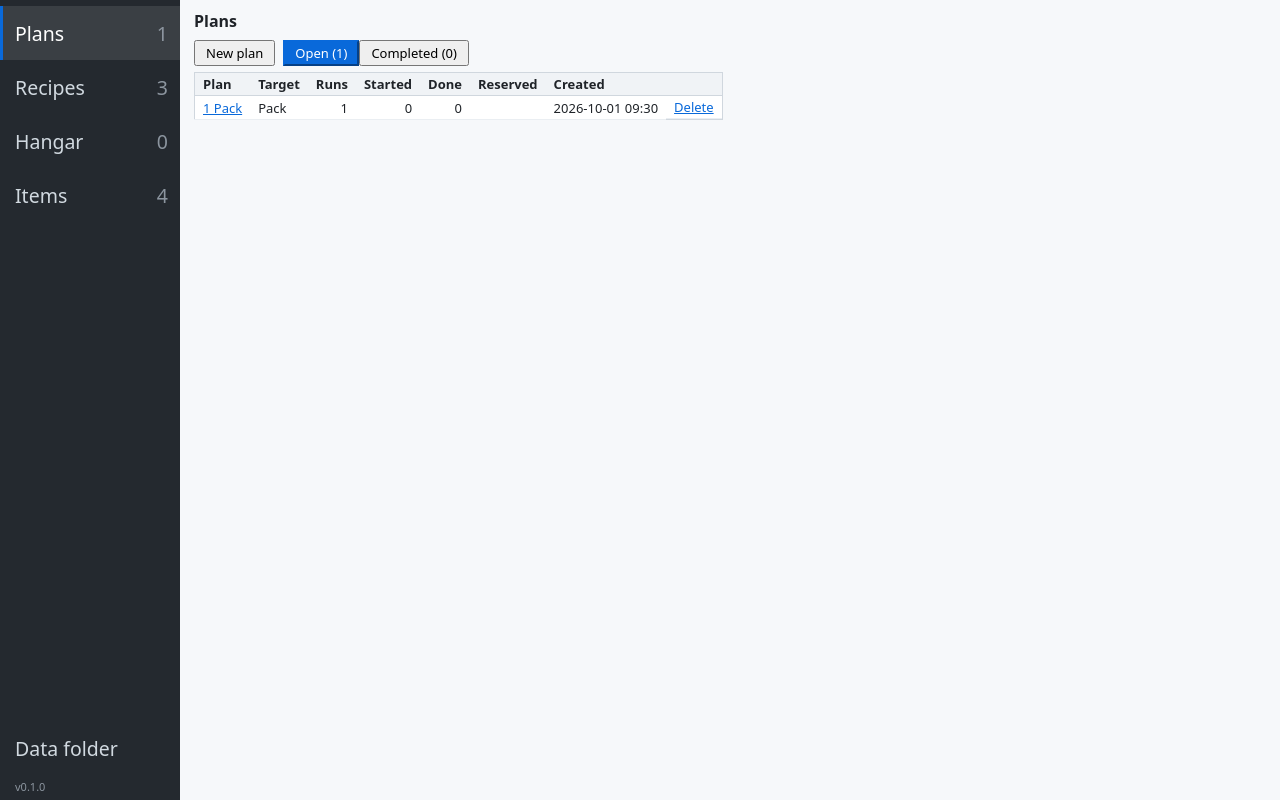
Scenario: deleting a variant an open plan uses, while other variants remain › states that those plans will have to choose another variant
Click the button "Recipes 3" at (90, 87), box [0, 60, 180, 114]
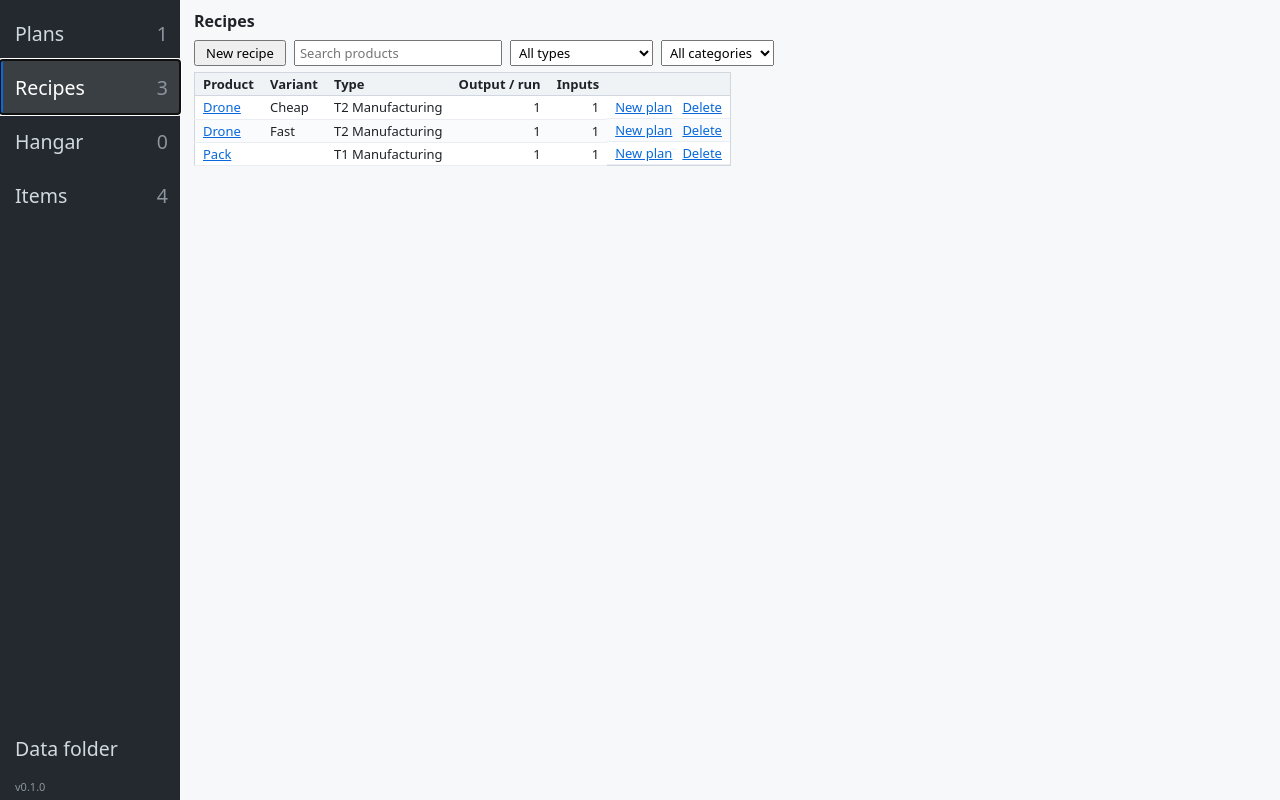
Click the button with aria-label "Delete Drone (Cheap)" at (702, 107), box [682, 98, 722, 116]
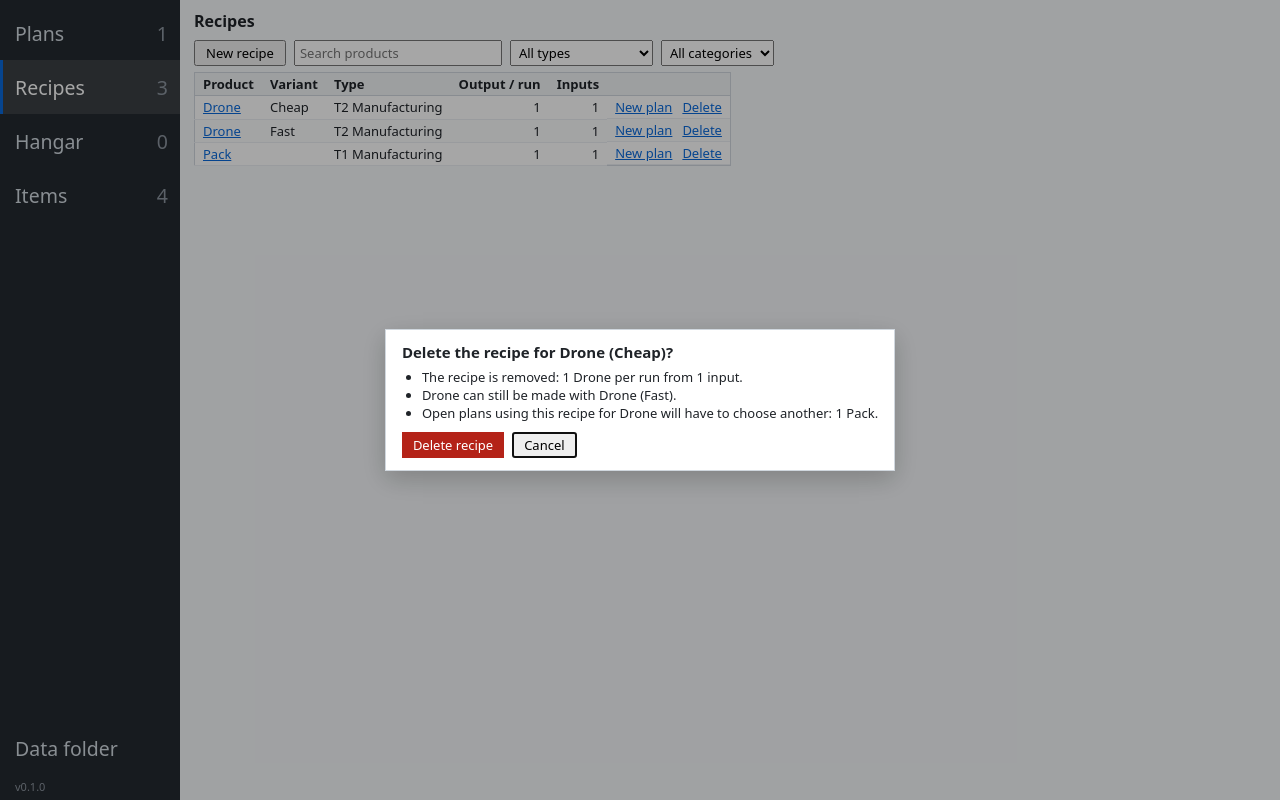
Now the dialog "Delete the recipe for Drone (Cheap)?" shows "Drone can still be made with Drone (Fast).", box [422, 386, 676, 404]
Now the dialog "Delete the recipe for Drone (Cheap)?" shows "Open plans using this recipe for Drone will have to choose another: 1 Pack.", box [422, 404, 878, 422]
